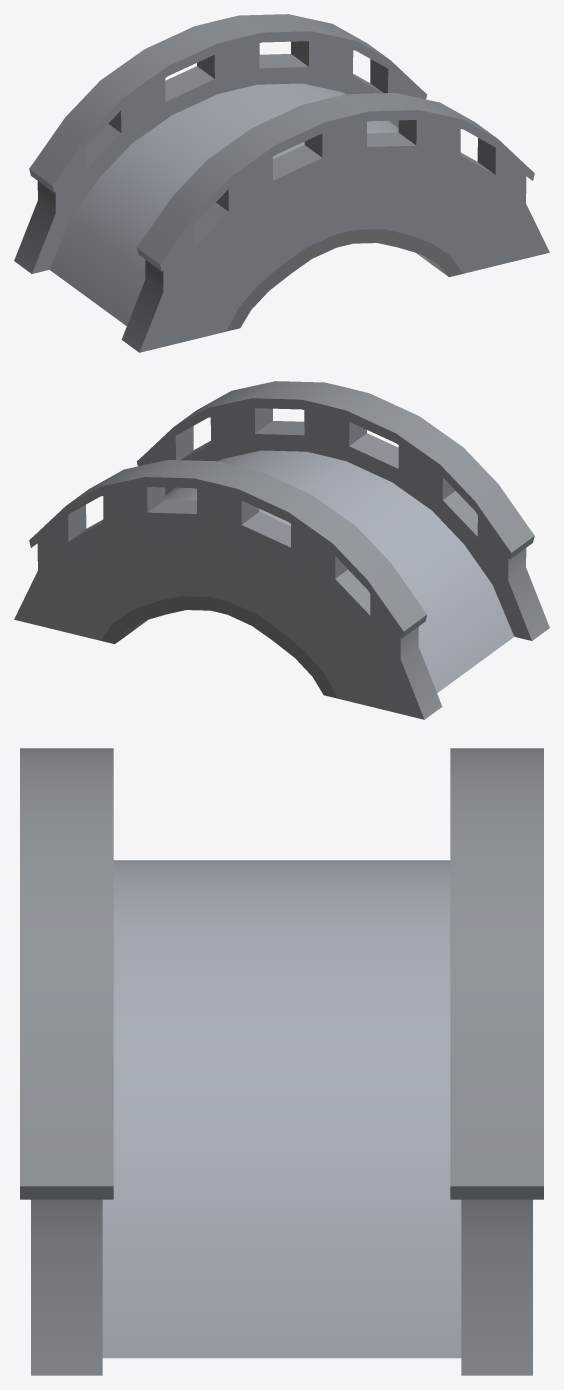
File: Bridge_1.fbx
3 renders of one model, top to bottom at view 1: azimuth 30°, elevation 25°; view 2: azimuth 150°, elevation 25°; view 3: azimuth 270°, elevation 25°, orthographic. The views are drawn at different scales.
Parts seen in each view (by area): view 1: Bridge_1; view 2: Bridge_1; view 3: Bridge_1.
Part boxes in pixels (left/top/right/bottom): Bridge_1: left=14, top=14, right=549, bottom=352; Bridge_1: left=14, top=381, right=549, bottom=719; Bridge_1: left=20, top=748, right=543, bottom=1375.
Size of the model in its own units: 255 by 112 by 141.
